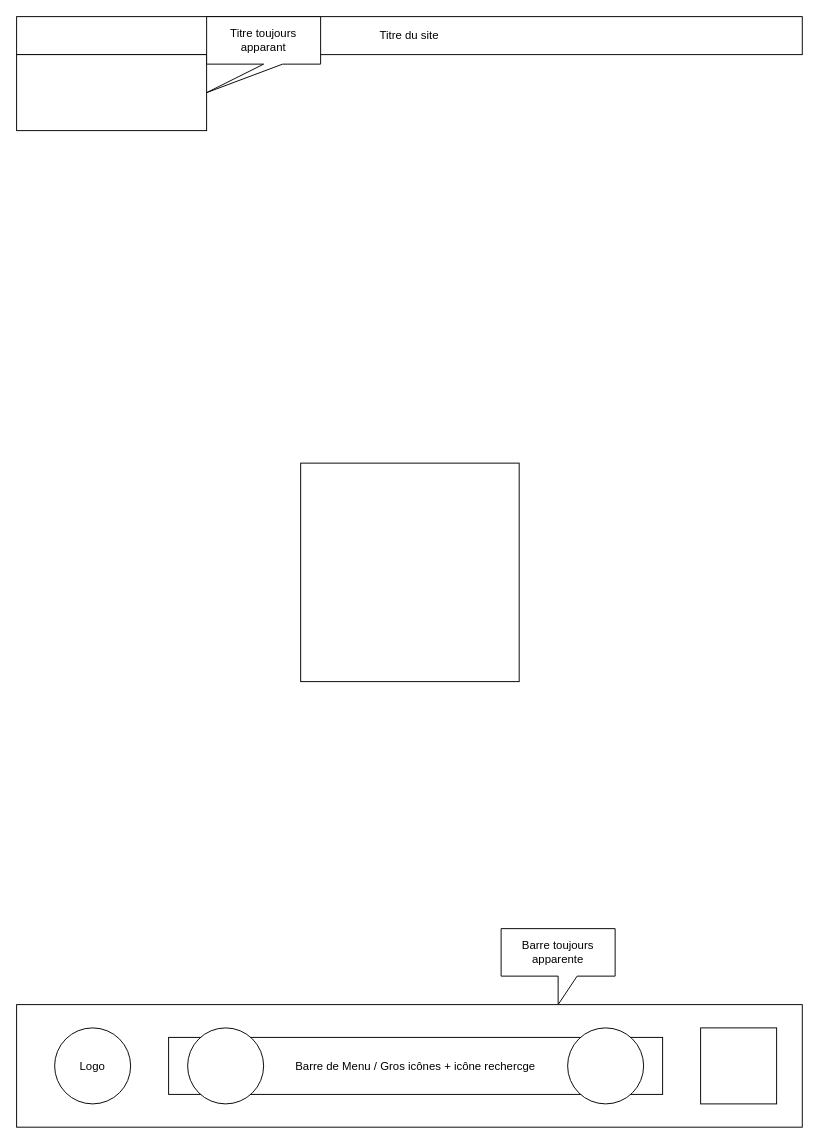
The diagram is 819 pixels wide and 1144 high, and some of its shapes have lost their labels. Each missing label, with the centre of its shape:
"Contenu du site en fonction de la page" goes at (409,572).
"Mon Profil" goes at (738,1065).
"Titre de la page" goes at (111,92).
